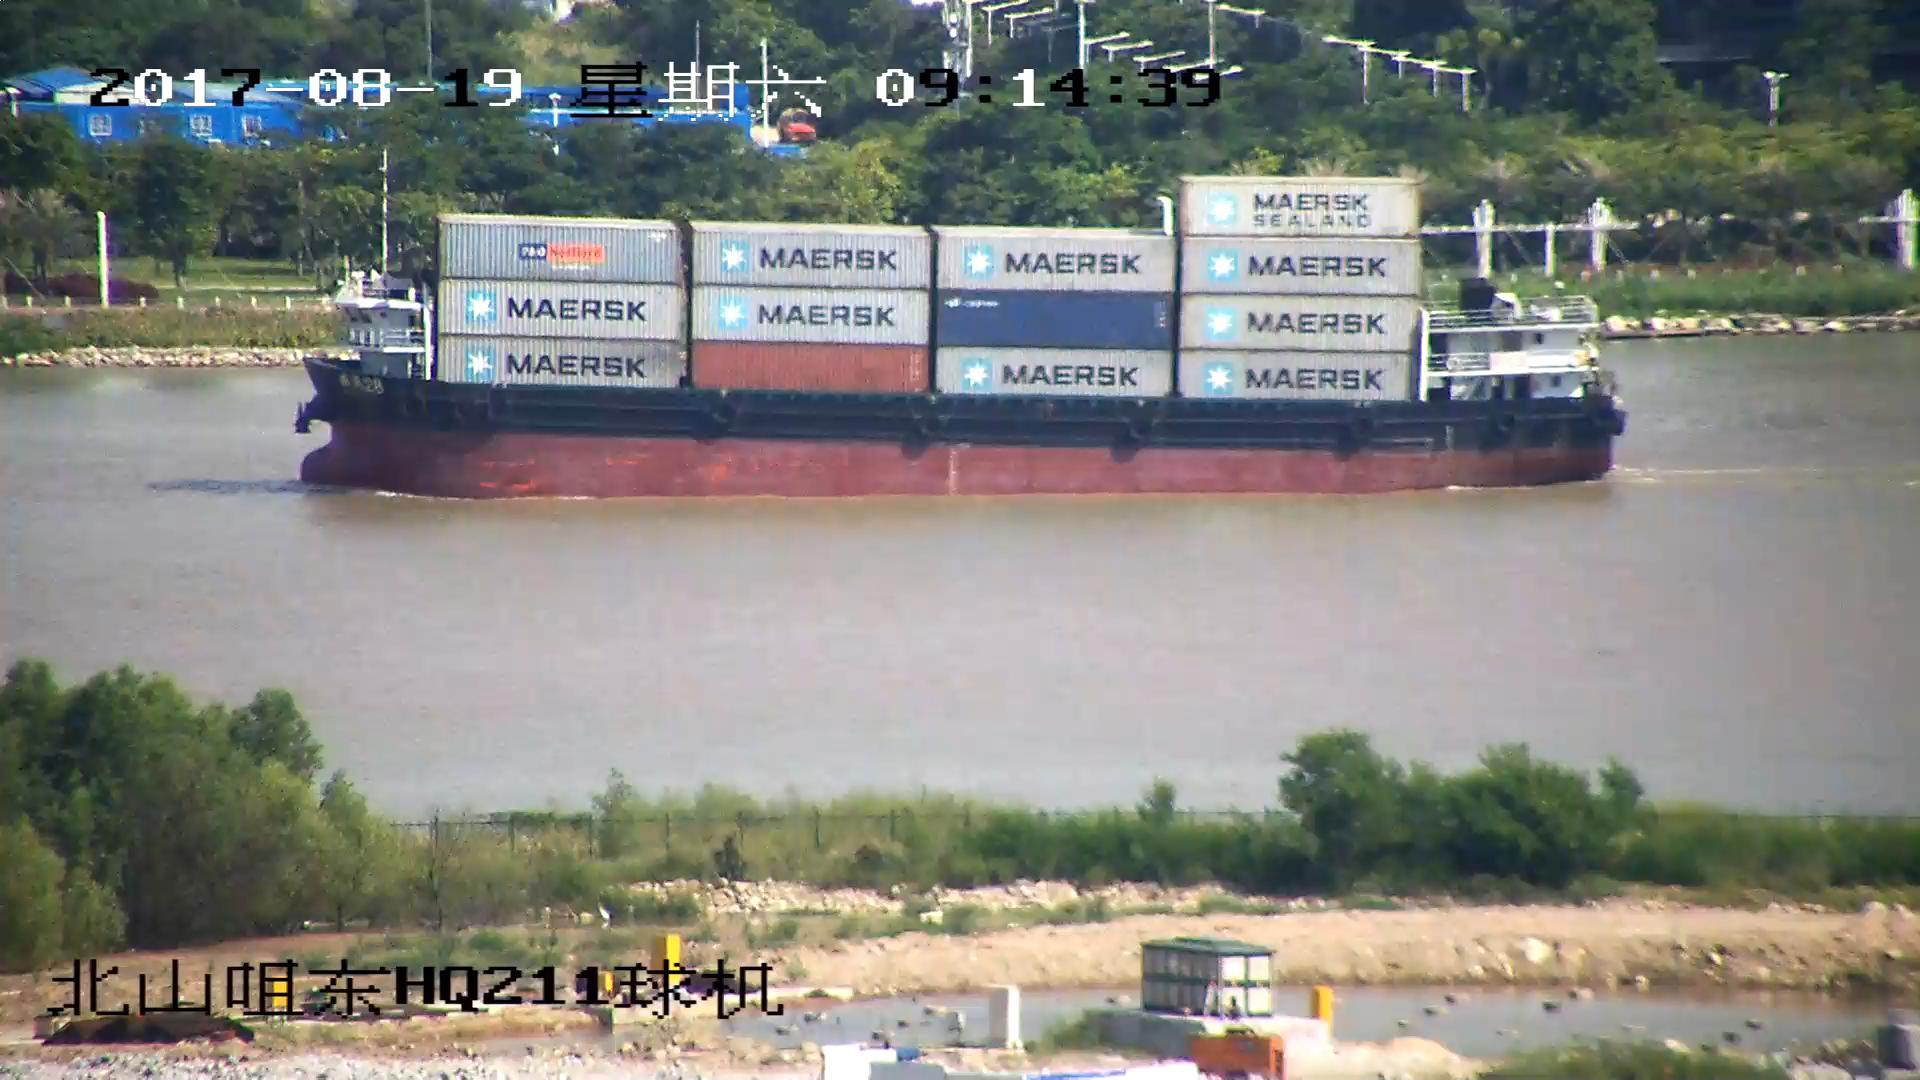Ship: (298, 146, 1626, 504)
